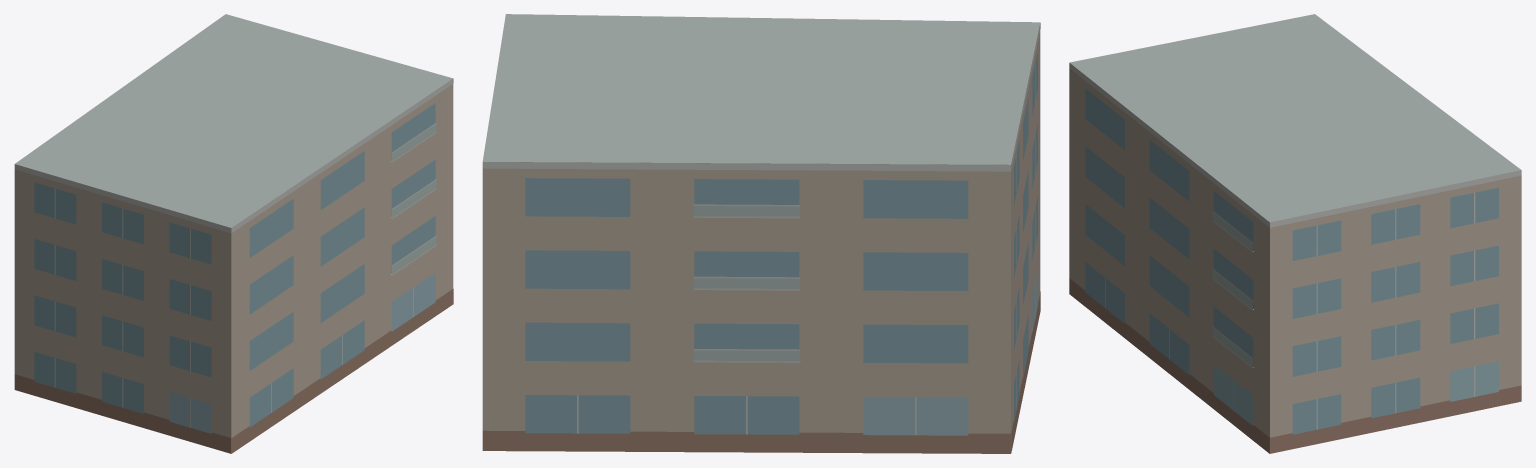
The model's file is survey-upis-32534222.glb.
3 renders of one model, left to right at view 1: azimuth 30°, elevation 25°; view 2: azimuth 150°, elevation 25°; view 3: azimuth 270°, elevation 25°, orthographic. The views are drawn at different scales.
Visible parts, largest first — view 1: survey-upis-32534222.tmp; view 2: survey-upis-32534222.tmp; view 3: survey-upis-32534222.tmp.
Part boxes in pixels (<box>): survey-upis-32534222.tmp: <box>14,14,453,453</box>; survey-upis-32534222.tmp: <box>482,14,1040,453</box>; survey-upis-32534222.tmp: <box>1069,14,1521,453</box>.
Bounding box in the file's own units: 20.09 × 10.4 × 18.43.
